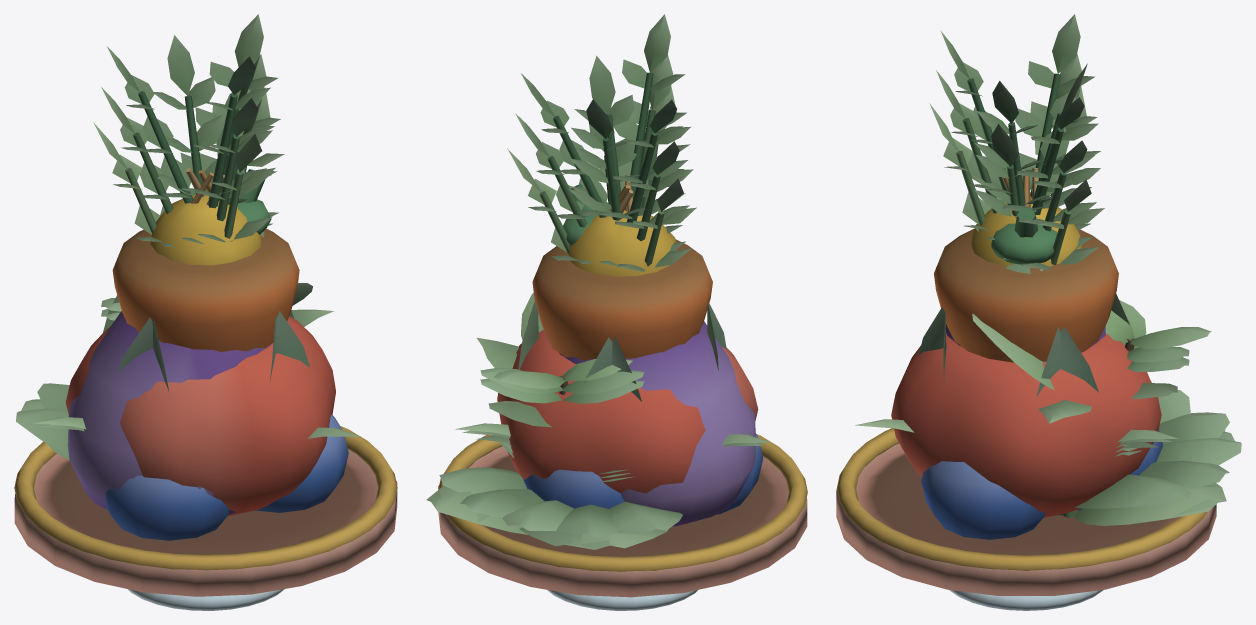
Rendered from field.glb.
3 views of the same model, side by side, from view 1: azimuth 30°, elevation 25°; view 2: azimuth 150°, elevation 25°; view 3: azimuth 270°, elevation 25° (orthographic). The views are drawn at different scales.
Parts seen in each view (by area): view 1: crop_carrot_s2, crop_tomato_s2, plot_dish, crop_eggplant_s2, rim_ripe, crop_blueberry_s2, crop_corn_s2, crop_carrot_s1, crop_carrot_s0, marker_dewOrb, crop_tomato_s1, crop_corn_s0 (+1 smaller); view 2: crop_carrot_s2, crop_tomato_s2, plot_dish, crop_eggplant_s2, rim_ripe, crop_corn_s2, crop_carrot_s1, crop_tomato_s1, crop_blueberry_s2, crop_carrot_s0, crop_blueberry_s0, crop_eggplant_s0 (+4 smaller); view 3: crop_tomato_s2, crop_carrot_s2, plot_dish, rim_ripe, crop_blueberry_s2, crop_carrot_s1, crop_corn_s2, crop_tomato_s1, crop_carrot_s0, crop_eggplant_s2, crop_eggplant_s0, crop_blueberry_s0 (+4 smaller).
Part boxes in pixels (x1,y1,x2,y2): crop_carrot_s2: (107, 14, 299, 351); crop_tomato_s2: (37, 316, 335, 516); plot_dish: (14, 449, 397, 596); crop_eggplant_s2: (67, 169, 271, 514); rim_ripe: (14, 426, 397, 570); crop_blueberry_s2: (101, 309, 348, 540); crop_corn_s2: (103, 168, 309, 506); crop_carrot_s1: (101, 54, 280, 246); crop_carrot_s0: (93, 87, 284, 242); marker_dewOrb: (127, 589, 284, 610); crop_tomato_s1: (16, 408, 68, 455); crop_corn_s0: (32, 417, 360, 438); crop_carrot_s2: (521, 14, 712, 360); crop_tomato_s2: (460, 330, 758, 537); plot_dish: (438, 446, 807, 597); crop_eggplant_s2: (519, 184, 755, 547); rim_ripe: (438, 434, 807, 571); crop_corn_s2: (476, 175, 726, 442); crop_carrot_s1: (515, 54, 693, 265); crop_tomato_s1: (439, 467, 682, 534); crop_blueberry_s2: (480, 378, 763, 514); crop_carrot_s0: (507, 85, 696, 271); crop_blueberry_s0: (488, 359, 632, 473); crop_eggplant_s0: (426, 486, 668, 549); crop_tomato_s2: (891, 332, 1229, 517); crop_carrot_s2: (934, 14, 1118, 362); plot_dish: (836, 443, 1216, 595); rim_ripe: (836, 428, 1207, 570); crop_blueberry_s2: (921, 347, 1189, 539); crop_carrot_s1: (936, 53, 1100, 259); crop_corn_s2: (918, 168, 1158, 515); crop_tomato_s1: (1074, 390, 1241, 508); crop_carrot_s0: (929, 86, 1104, 270); crop_eggplant_s2: (946, 208, 1234, 441); crop_eggplant_s0: (1075, 412, 1226, 525); crop_blueberry_s0: (1105, 310, 1211, 447).
Size of the model in its own units: 0.938 by 1.49 by 1.
